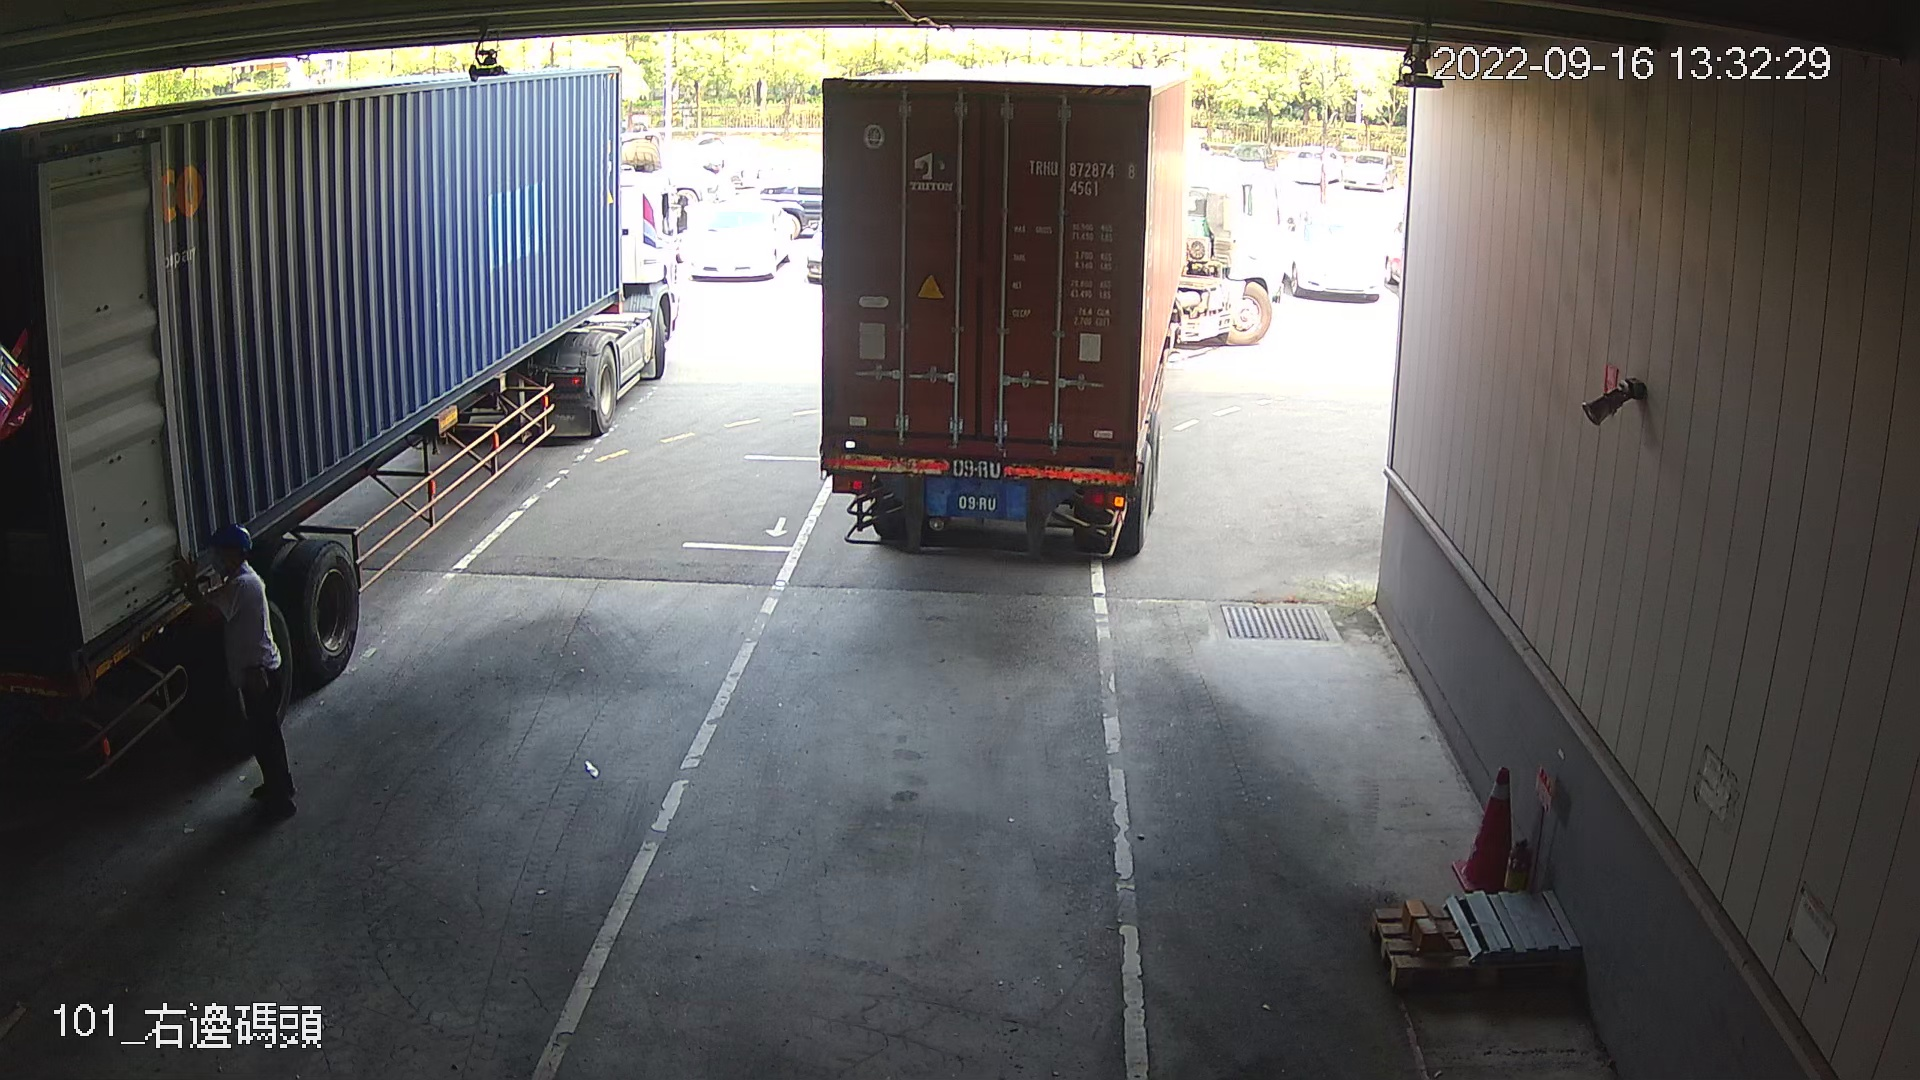container: (1014, 148, 1141, 204)
